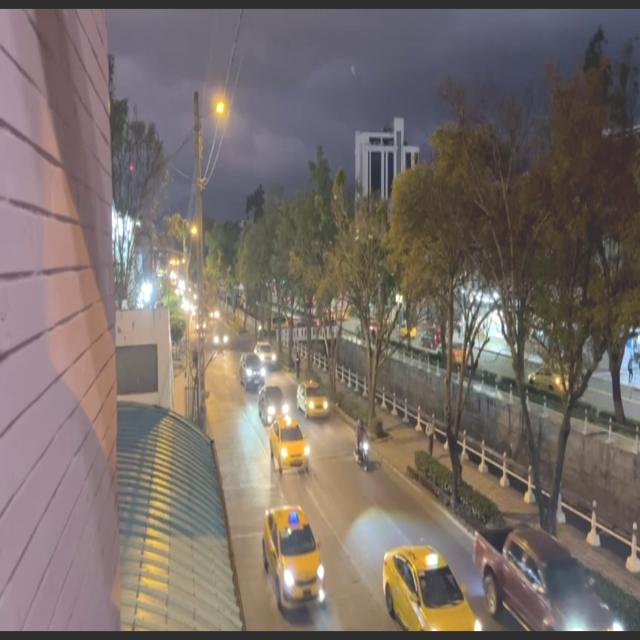CMT: (478, 528, 622, 640)
SUV: (242, 355, 263, 387)
